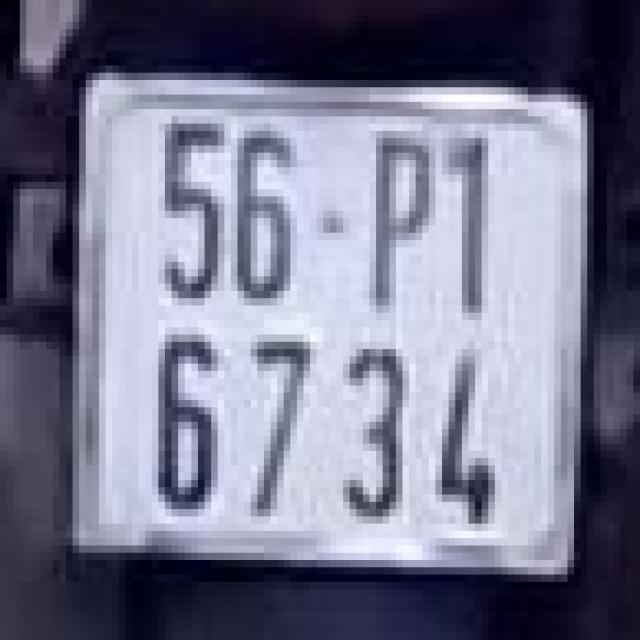1: (436, 120, 502, 324)
3: (330, 342, 402, 531)
4: (429, 338, 508, 527)
5: (145, 109, 224, 306)
6: (221, 116, 307, 313), (148, 334, 221, 516)
7: (234, 327, 320, 538)
P: (360, 116, 432, 334)
